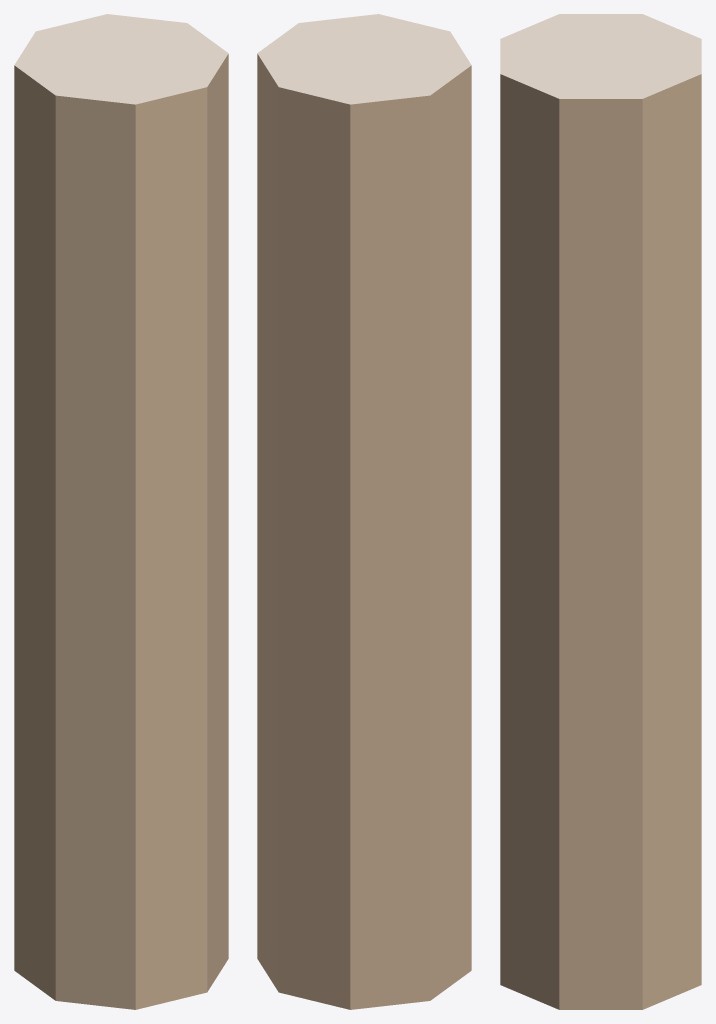
File: Wall_End_Middle.obj
The picture shows the model from 3 angles, left to right: view 1: azimuth 30°, elevation 25°; view 2: azimuth 150°, elevation 25°; view 3: azimuth 270°, elevation 25°; orthographic projection.
Parts seen in each view (by area): view 1: object1; view 2: object1; view 3: object1.
Part boxes in pixels (x1,y1,x2,y2): object1: [14, 14, 228, 1009]; object1: [257, 14, 471, 1009]; object1: [500, 14, 701, 1009].
Bounding box in the file's own units: 0.2 × 1 × 0.2.
